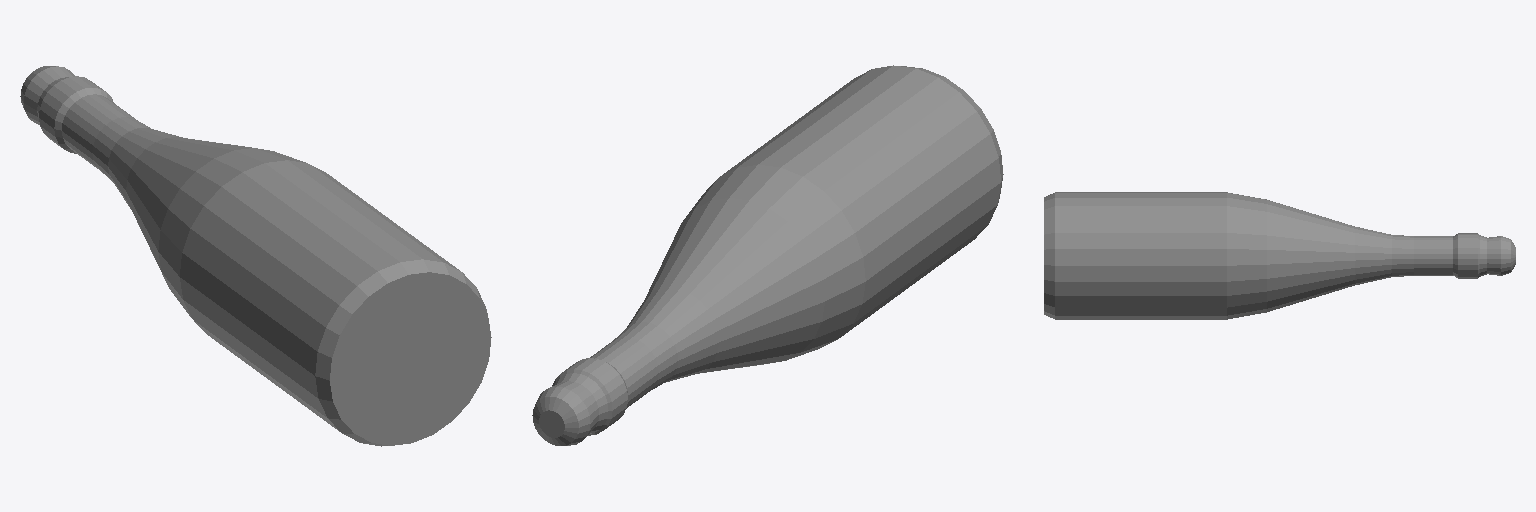
The robot description file, URDF, robot "cube.urdf":
<?xml version="0.0" ?> 
<robot name="cube.urdf"> 
<link name="legobrick"> 
<contact> 
<lateral_friction value="1.0"/>
<rolling_friction value="0.0"/>
<contact_cfm value="0.0"/>
<contact_erp value="1.0"/>
</contact> 
<inertial> 
<origin rpy="0 0 0" xyz="0.0 0.0 0.0"/> 
<mass value="0.1"/> 
<inertia ixx="1" ixy="0" ixz="0" iyy="1" iyz="0" izz="1"/> 
</inertial> 
<visual> 
<origin rpy="1.570796 0 0" xyz="7.467176727167322e-20 -0.03535741176470576 1.7156862750544296e-08"/> 
<geometry> 
<mesh filename="908e85e13c6fbde0a1ca08763d503f0e_1.obj" scale="1 1 1"/> 
</geometry> 
<material name="yellow"> 
<color rgba="0.6 0.6 0.6 1"/> 
</material> 
</visual> 
<collision> 
<origin rpy="1.570796 0 0" xyz="7.467176727167322e-20 -0.03535741176470576 1.7156862750544296e-08"/> 
<geometry> 
<mesh filename="908e85e13c6fbde0a1ca08763d503f0e_1_col.obj" scale="1 1 1"/> 
</geometry> 
</collision> 
</link> 
</robot>

--- Render facts (derived) ---
3 views of the same robot in one strip: view 1: azimuth 30°, elevation 25°; view 2: azimuth 150°, elevation 25°; view 3: azimuth 270°, elevation 25° (orthographic).
Robot: cube.urdf — 1 links, 0 joints (none); root link legobrick; default pose: every joint at zero.
Visible links, largest first — view 1: legobrick; view 2: legobrick; view 3: legobrick.
Boxes of the visible links, left/top/right/bottom form: legobrick: left=20, top=66, right=491, bottom=446; legobrick: left=532, top=65, right=1003, bottom=445; legobrick: left=1044, top=192, right=1515, bottom=319.
Size in the robot's own frame: 0.045 by 0.1658 by 0.045 metres.
1 mesh visuals loaded from 1 distinct referenced files (1 OBJ).